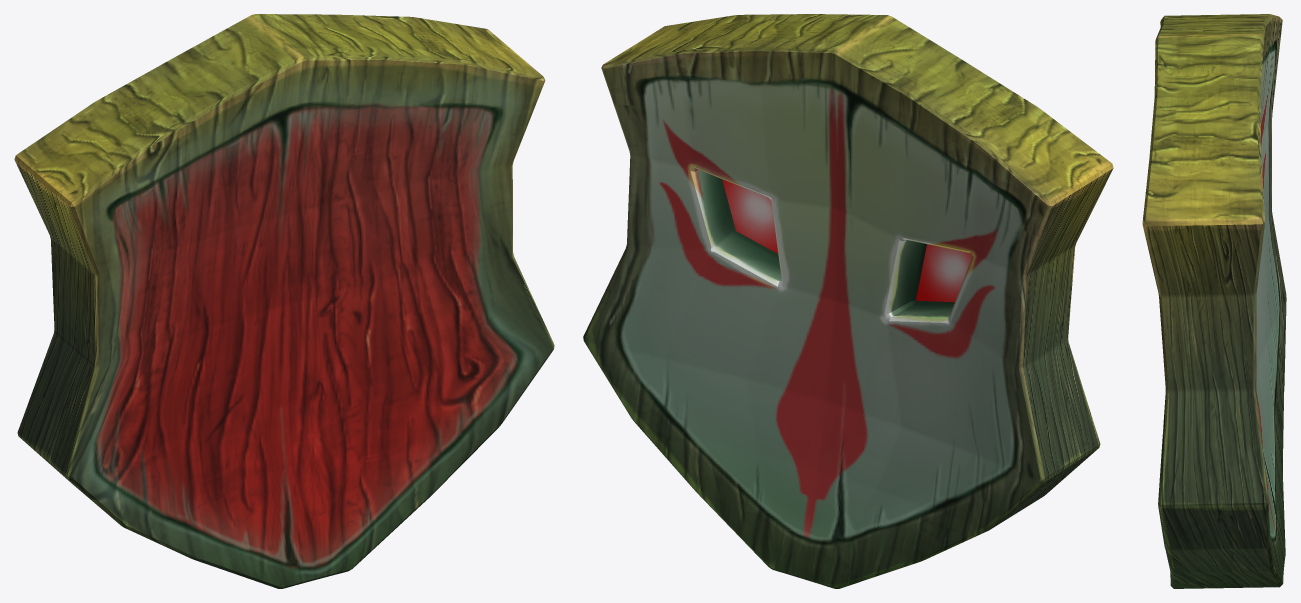
The model's file is K_Minion_Move.fbx.
3 views of the same model, side by side, from view 1: azimuth 30°, elevation 25°; view 2: azimuth 150°, elevation 25°; view 3: azimuth 270°, elevation 25° (orthographic).
Visible parts, largest first — view 1: pCube1; view 2: pCube1; view 3: pCube1.
Part boxes in pixels (x1,y1,x2,y2): pCube1: (14,14,554,588); pCube1: (583,14,1113,588); pCube1: (1142,14,1286,588).
Size of the model in its own units: 1.01 by 1.07 by 0.2642.
1 material, 1 textured.
